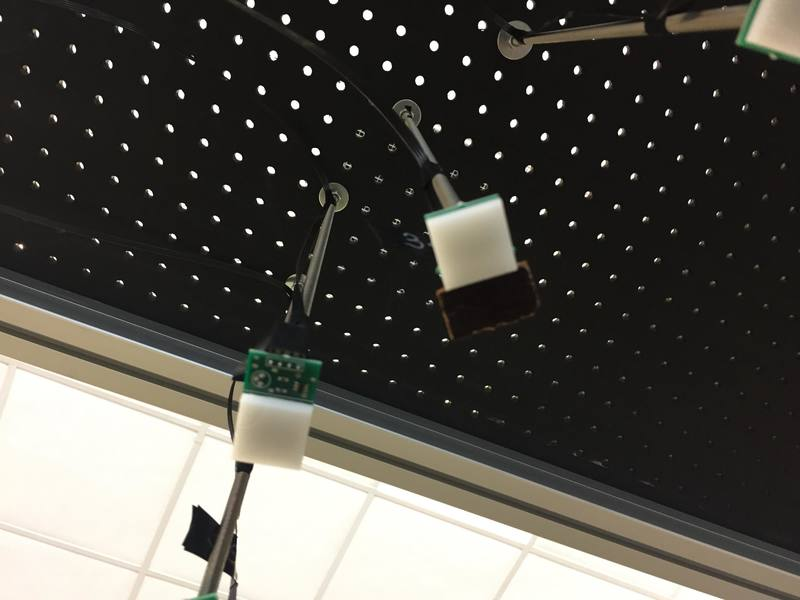target: (422, 199, 520, 289), (236, 392, 311, 470)
